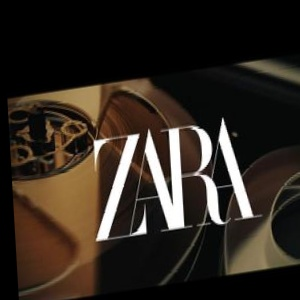zara: (218, 61, 299, 153)
